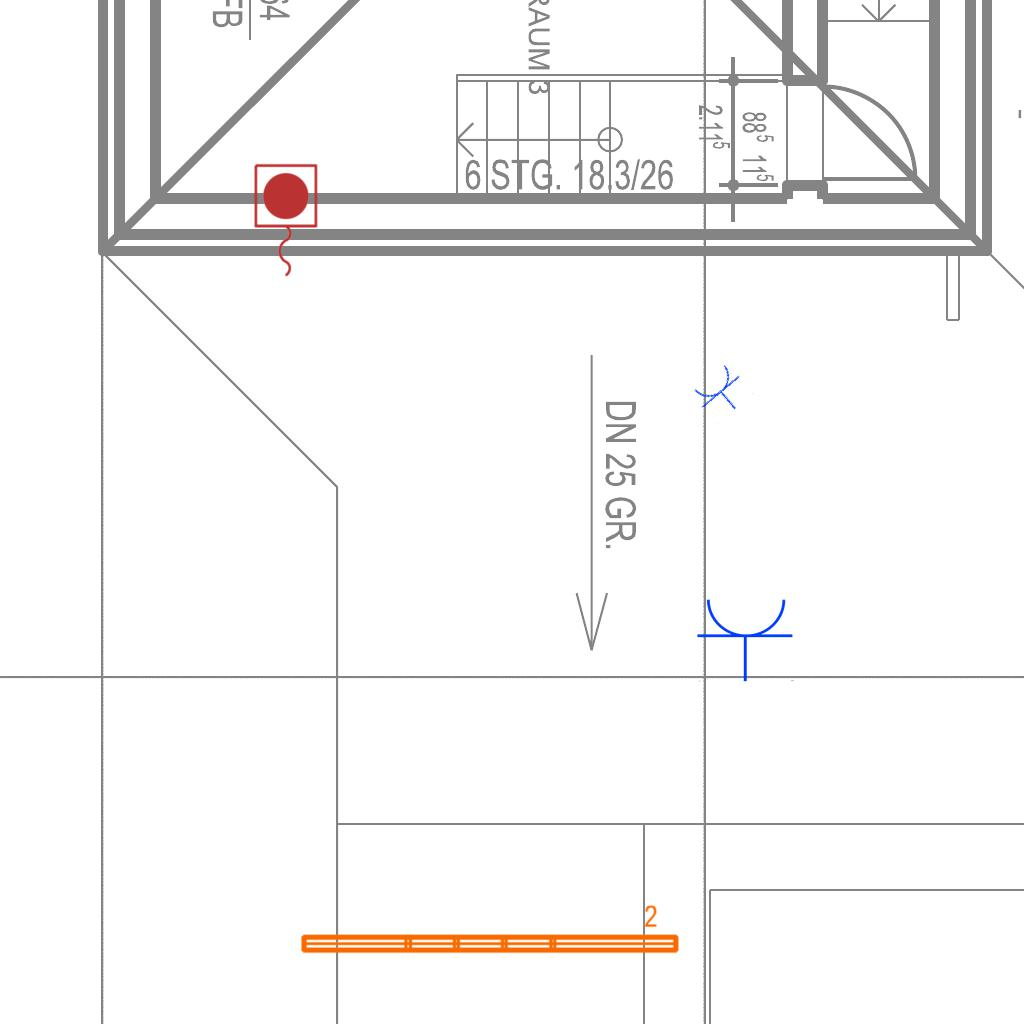Ambulanz_Pendelleuchte_LED: (296, 903, 683, 959)
Schukosteckdose_einfach: (696, 595, 796, 682), (689, 359, 755, 426)
Zugtaster: (249, 160, 321, 282)
